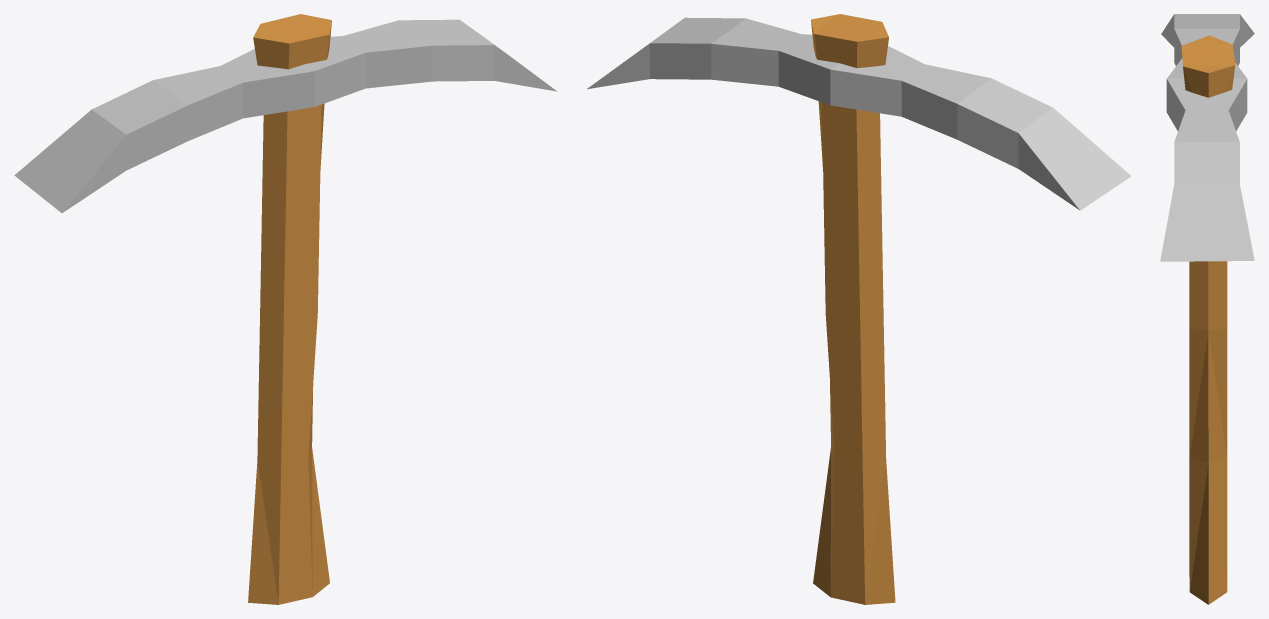
Rendered from axe.obj.
3 renders of one model, left to right at view 1: azimuth 30°, elevation 25°; view 2: azimuth 150°, elevation 25°; view 3: azimuth 270°, elevation 25°, orthographic. The views are drawn at different scales.
Visible parts, largest first — view 1: group1377344500, group893600418; view 2: group1377344500, group893600418; view 3: group893600418, group1377344500.
Boxes of the visible parts, x1,y1,x2,y2 form: group1377344500: (248, 14, 331, 604); group893600418: (14, 19, 556, 212); group1377344500: (811, 14, 895, 604); group893600418: (587, 17, 1131, 210); group893600418: (1160, 14, 1254, 261); group1377344500: (1181, 35, 1235, 604).
Size of the model in its own units: 0.7225 by 0.7865 by 0.1264.
